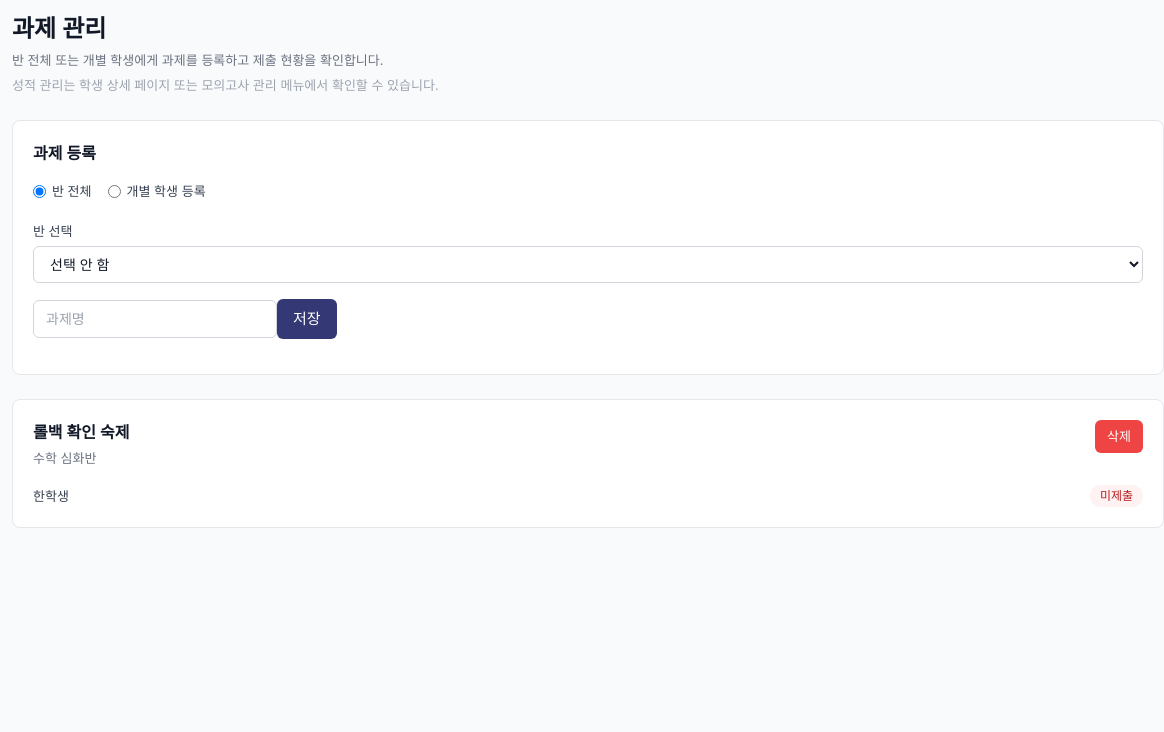
과제 관리 페이지: 제출 상태 배지 클릭 › apiClient.put이 reject되면 배지가 클릭 이전 상태로 되돌아가고 에러 메시지가 화면에 표시된다
Expected: the heading "롤백 확인 숙제" is shown, [33,420,129,444]
Click the button "미제출".
click(1116, 496)  # box [1090,485,1143,507]
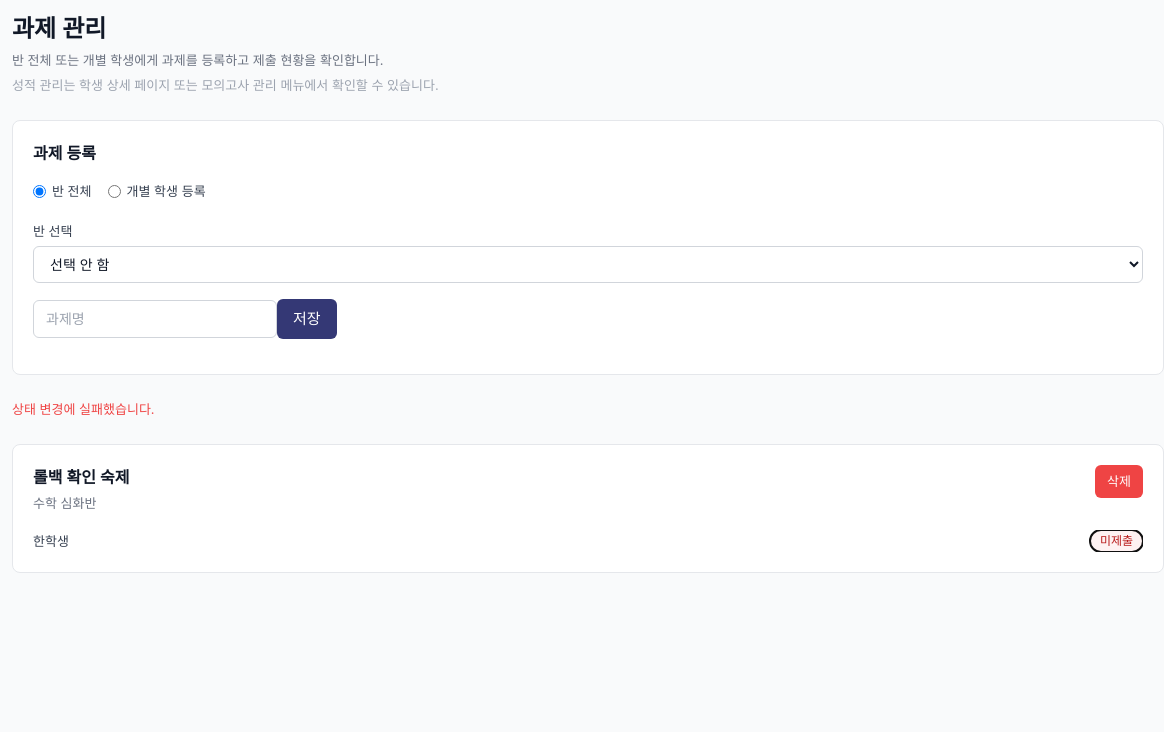
Expected: the button "미제출" is shown, [1090,530,1143,552]
Now the text "상태 변경에 실패했습니다." is shown, box [12,401,155,417]
